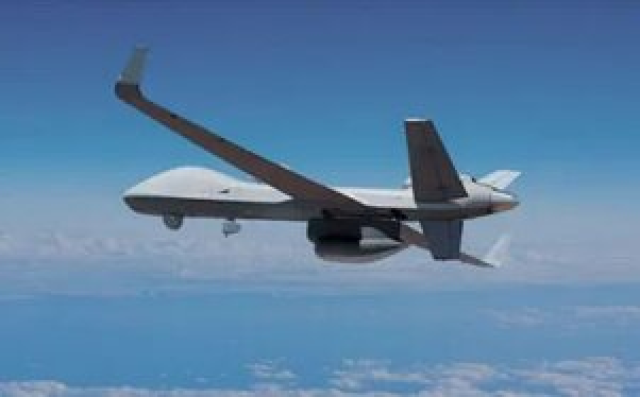military drone: (114, 44, 524, 269)
